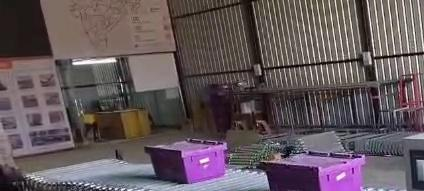box: (261, 152, 364, 190), (145, 139, 226, 183)
